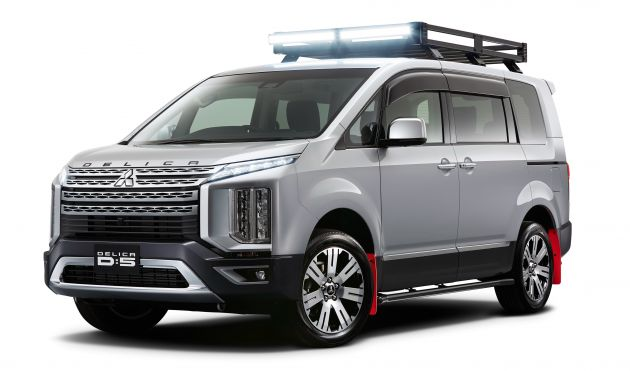van: (43, 52, 574, 347)
